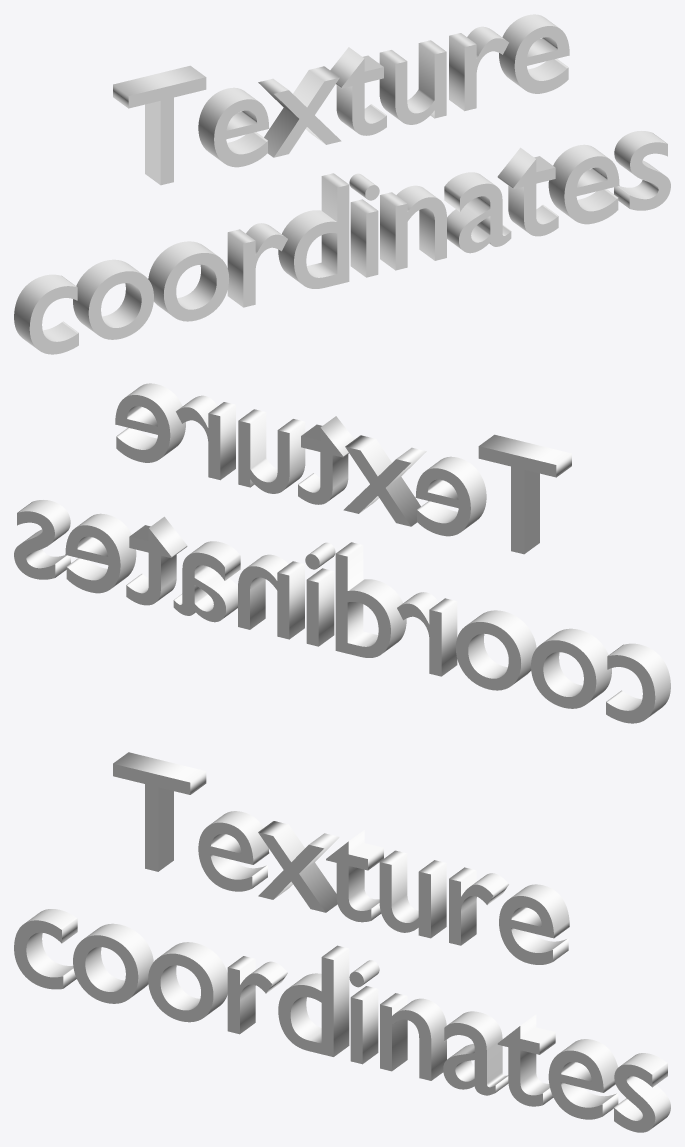
The model's file is texture_coordinates.obj.
3 renders of one model, top to bottom at view 1: azimuth 30°, elevation 25°; view 2: azimuth 150°, elevation 25°; view 3: azimuth 330°, elevation 25°, orthographic.
Parts seen in each view (by area): view 1: Text_Text_Material; view 2: Text_Text_Material; view 3: Text_Text_Material.
Boxes of the visible parts, <box> form: Text_Text_Material: <box>14,14,670,354</box>; Text_Text_Material: <box>14,383,670,723</box>; Text_Text_Material: <box>14,752,670,1132</box>.
Size of the model in its own units: 4.71 by 1.69 by 0.2.
1 material, 1 textured.
